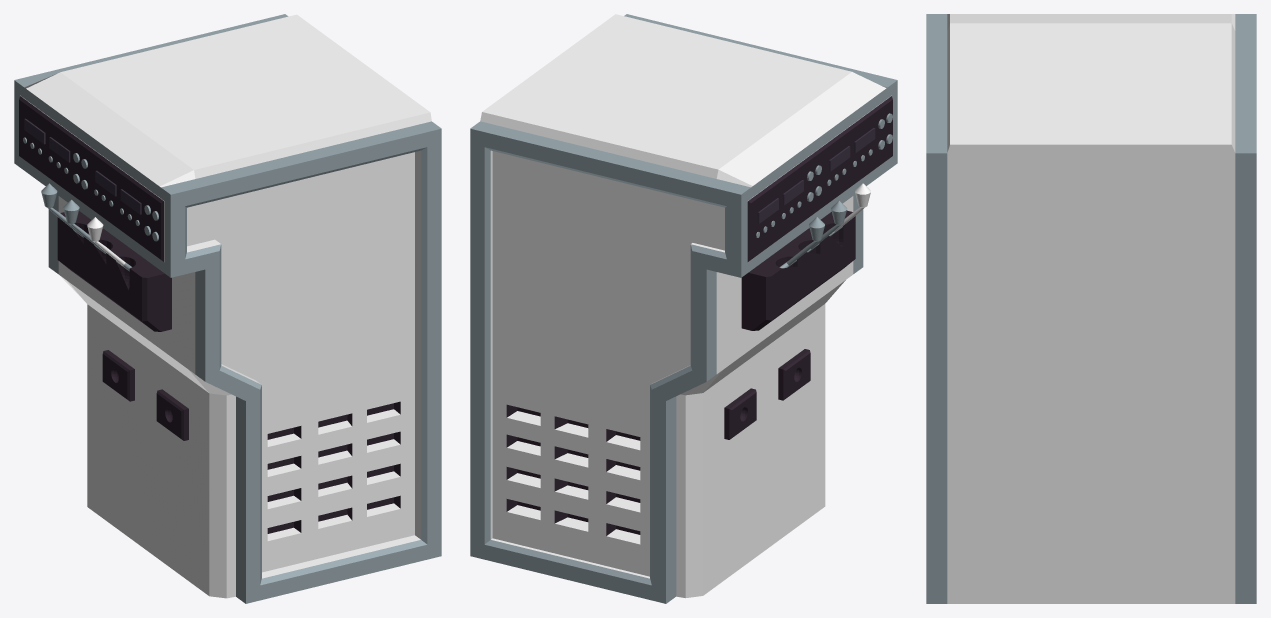
File: MaszynaDoLodow.v3.fbx
3 views of the same model, side by side, from view 1: azimuth 30°, elevation 25°; view 2: azimuth 150°, elevation 25°; view 3: azimuth 270°, elevation 25° (orthographic). The views are drawn at different scales.
Parts seen in each view (by area): view 1: MaszynaDoLodow.v3; view 2: MaszynaDoLodow.v3; view 3: MaszynaDoLodow.v3.
Part boxes in pixels (x1,y1,x2,y2): MaszynaDoLodow.v3: [14, 14, 441, 603]; MaszynaDoLodow.v3: [470, 14, 897, 603]; MaszynaDoLodow.v3: [926, 14, 1256, 603].
Bounding box in the file's own units: 2.62 × 3.65 × 2.38.
